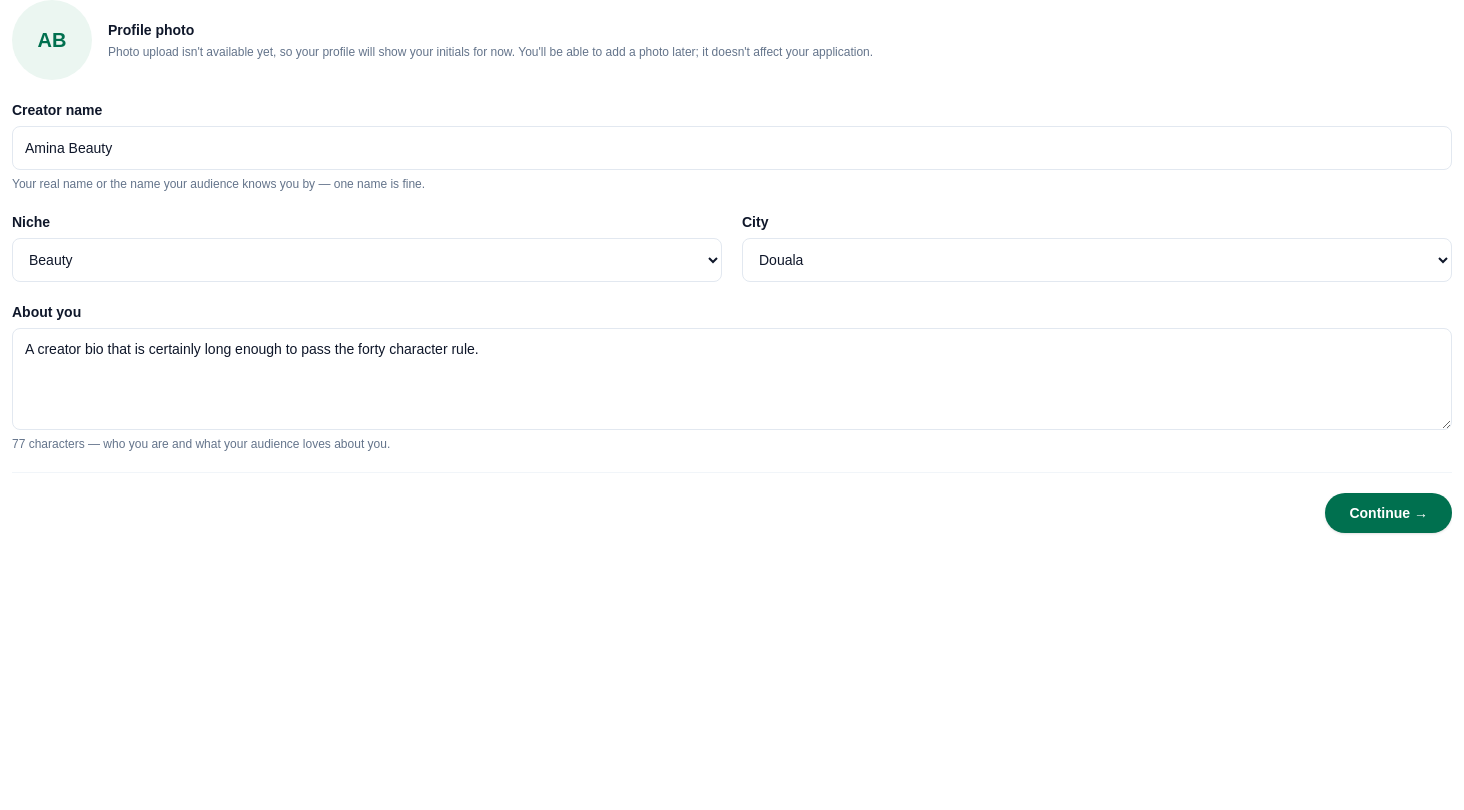
Test: profile step › shows the API's field errors, says nothing was saved, and does not move on
The image size is (1464, 810).
Click the button "Continue →".
click(1389, 513)  # box [1326, 493, 1452, 533]
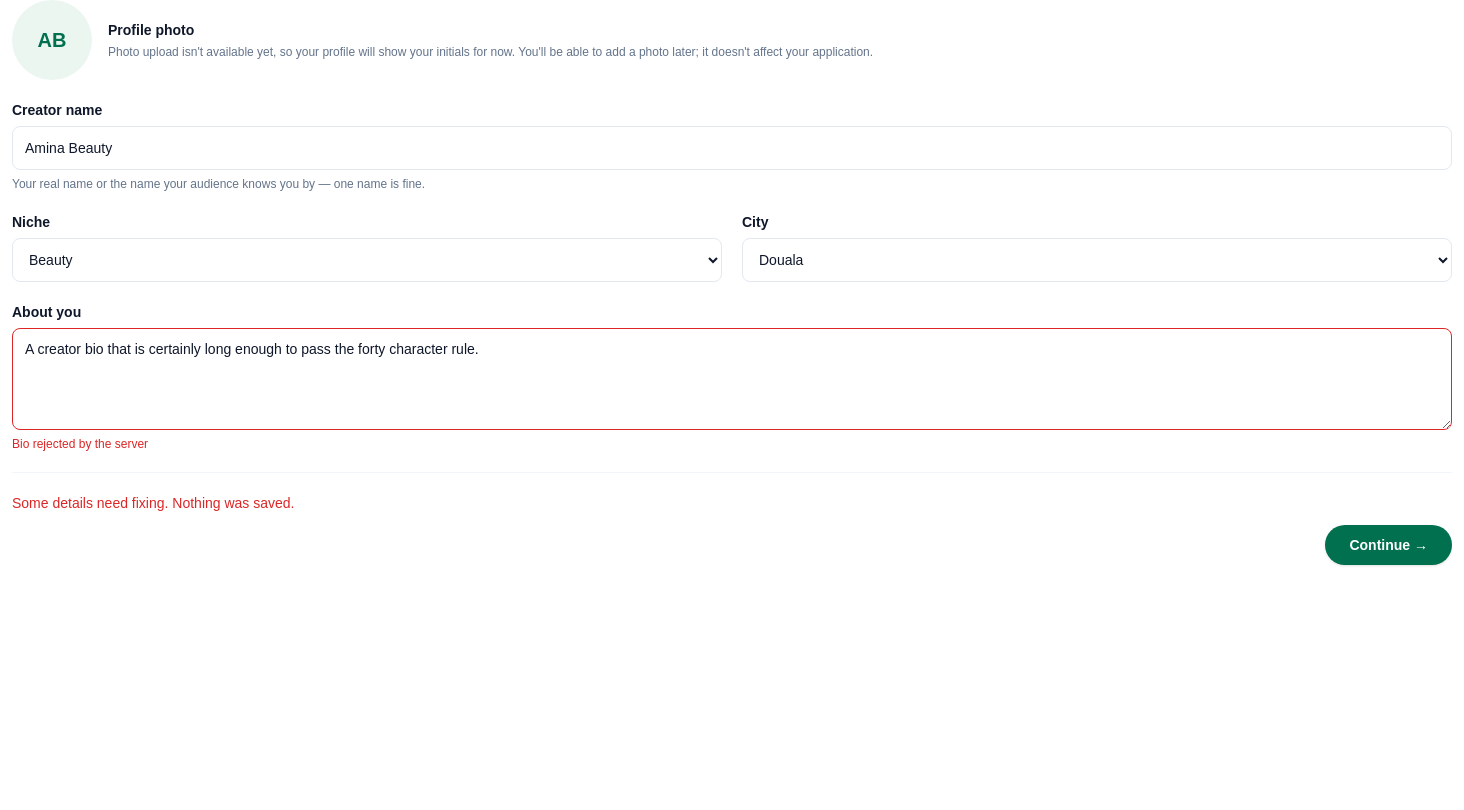
Check: the field labelled "Creator name" holds "Amina Beauty", box [12, 126, 1452, 170]
Check: the text "Bio rejected by the server" is shown, box [12, 437, 148, 451]
Check: the message shows "Nothing was saved", box [12, 495, 294, 511]
